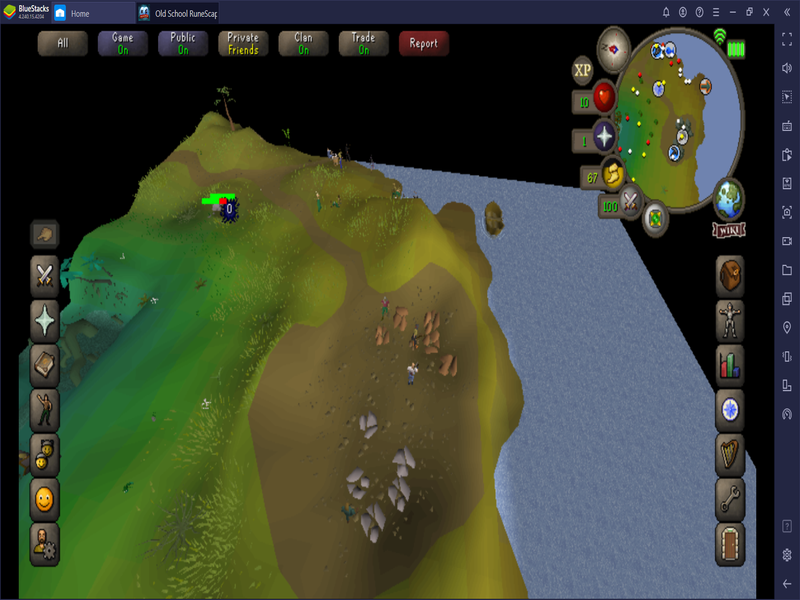copper_rock_1: (374, 324, 393, 350)
copper_rock_2: (392, 305, 409, 331)
